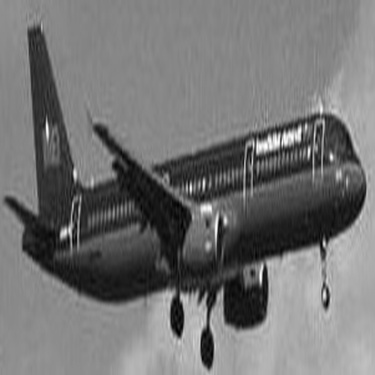airplane: (1, 4, 370, 372)
